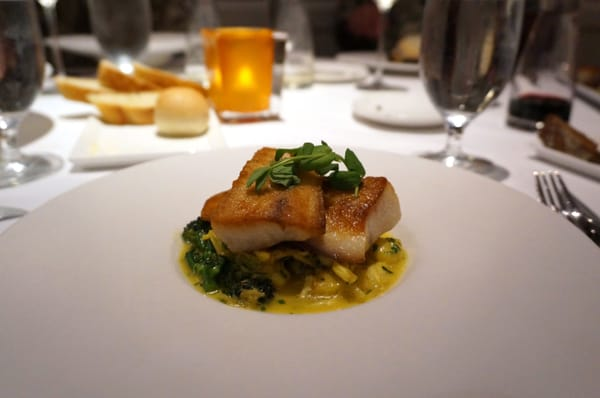burger: (534, 170, 600, 250)
pizza: (505, 4, 582, 130), (200, 24, 278, 122), (273, 0, 316, 88)
soup: (178, 141, 399, 304)
